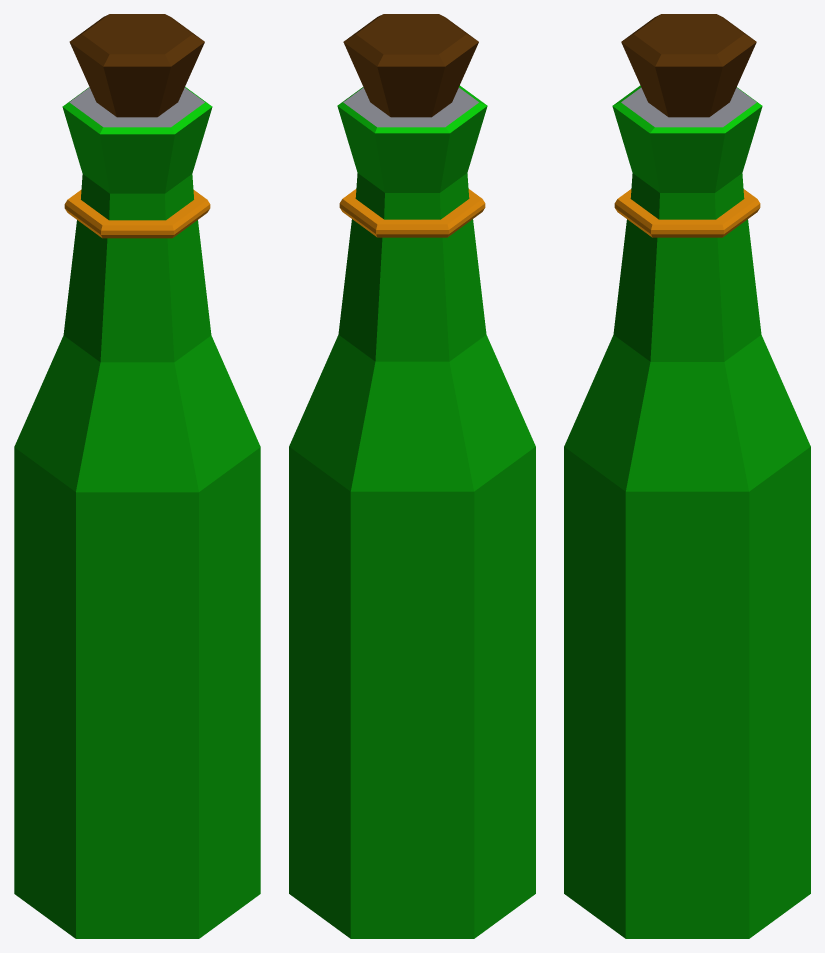
The model's file is garrafaLowPolly.fbx.
3 views of the same model, side by side, from view 1: azimuth 30°, elevation 25°; view 2: azimuth 150°, elevation 25°; view 3: azimuth 270°, elevation 25° (orthographic).
Visible parts, largest first — view 1: Cylinder; view 2: Cylinder; view 3: Cylinder.
Part boxes in pixels (<box>): Cylinder: <box>14,14,260,938</box>; Cylinder: <box>289,14,535,938</box>; Cylinder: <box>564,14,810,938</box>.
Size of the model in its own units: 86.6 by 384 by 100.
Materials: 1 (1 with a texture image).
